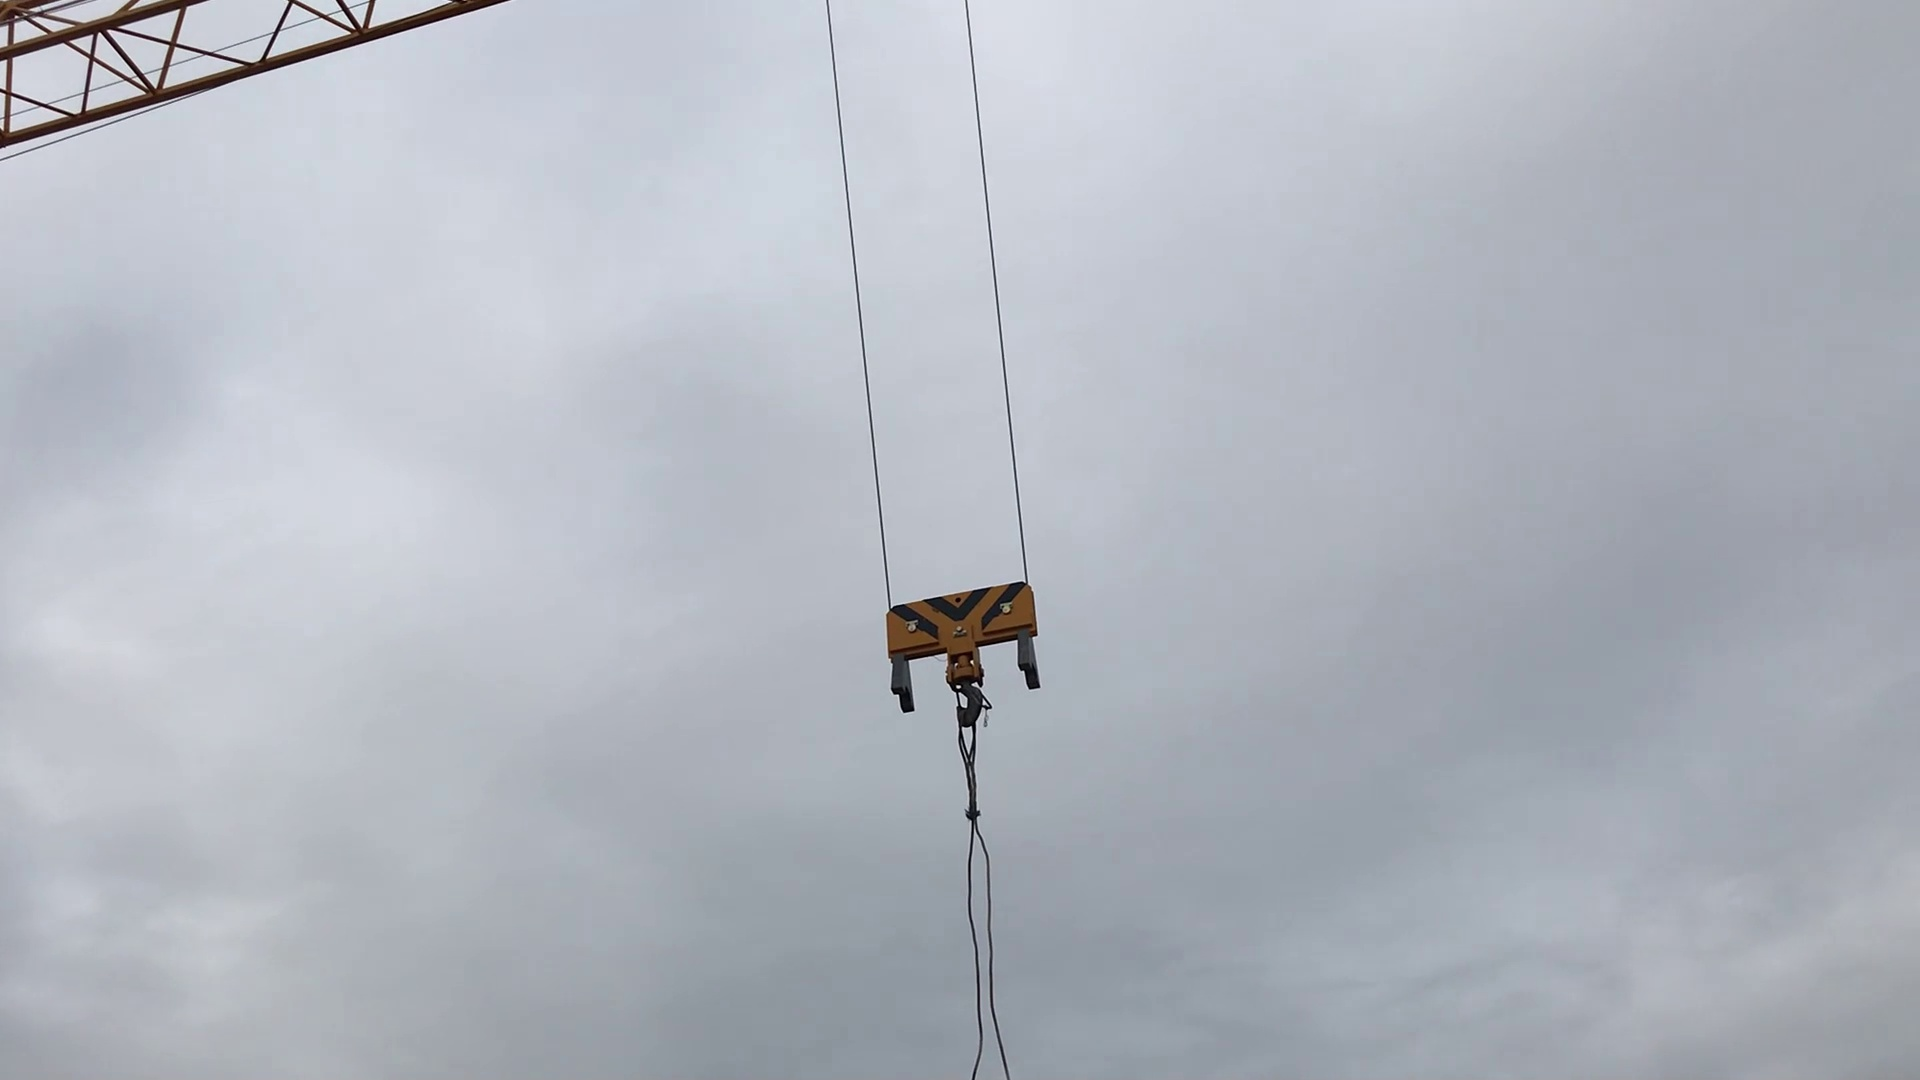hook: (862, 574, 1083, 750)
